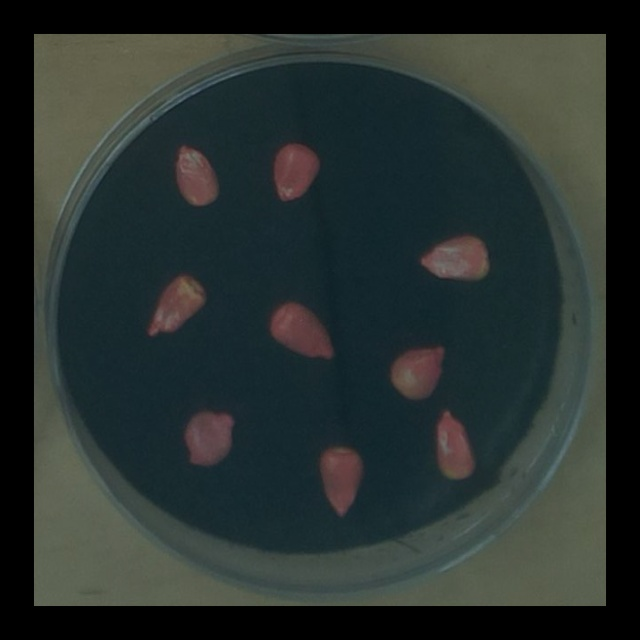Zea mays: (261, 292, 344, 371), (139, 266, 213, 345), (413, 227, 496, 289), (311, 440, 370, 525), (176, 401, 245, 473), (428, 404, 484, 489), (264, 137, 328, 211), (384, 339, 452, 406), (168, 140, 227, 215)
